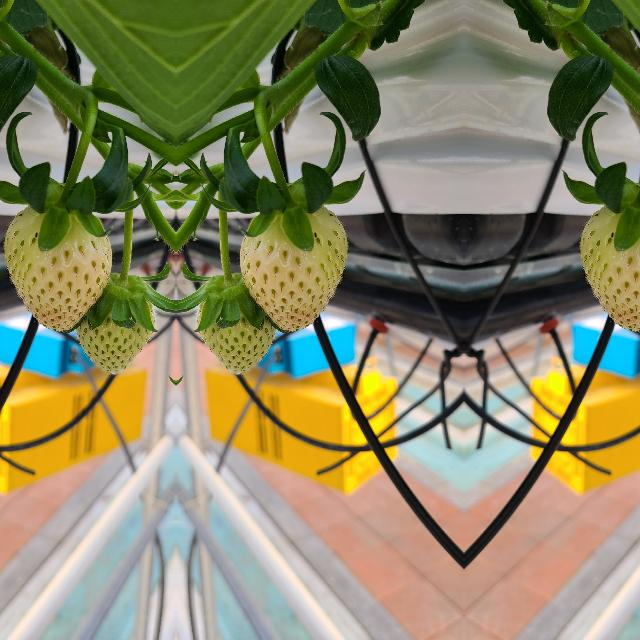Health_25: (235, 204, 348, 334), (1, 204, 114, 334), (577, 204, 640, 333), (196, 284, 274, 372), (76, 284, 154, 372)
